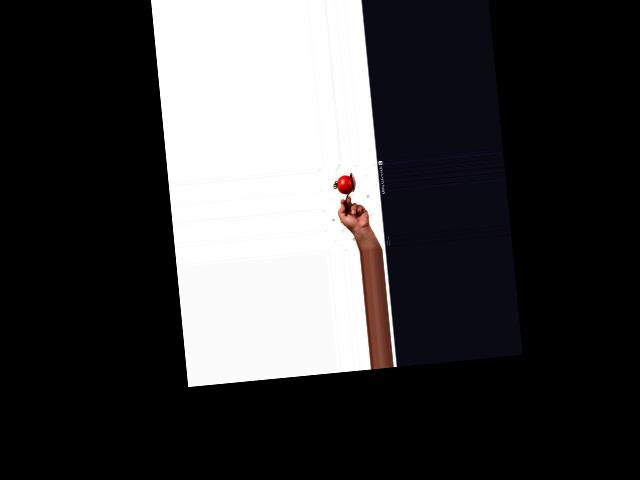tomato: (336, 175, 354, 195)
